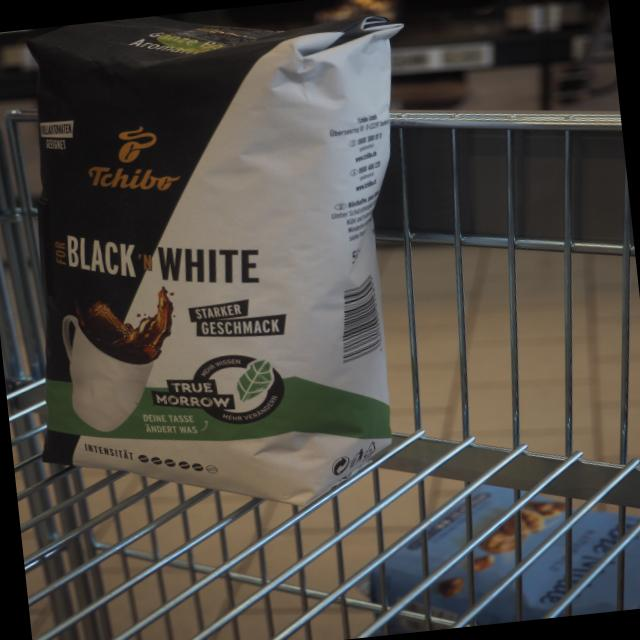BW Bohne: (0, 0, 458, 543)
